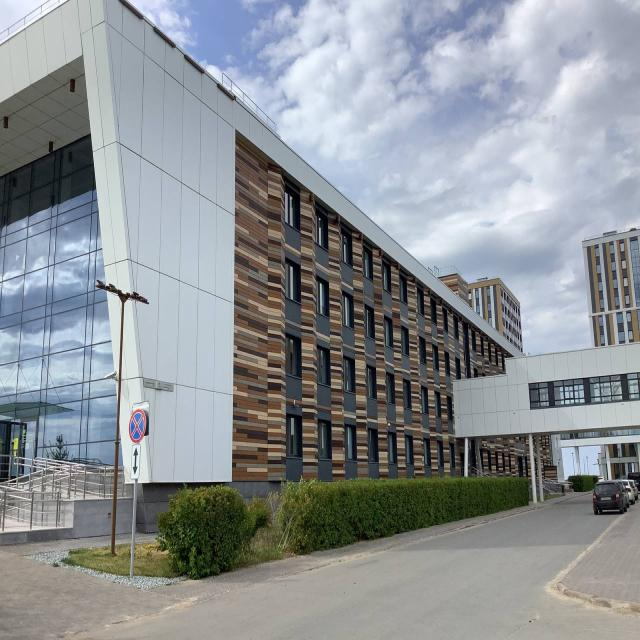Building: (0, 0, 567, 484)
